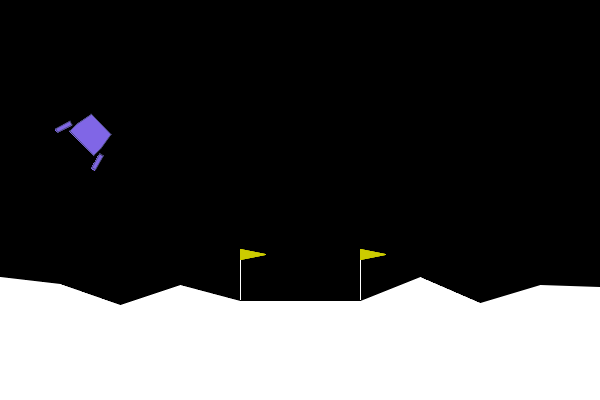lander: (53, 102, 123, 173)
